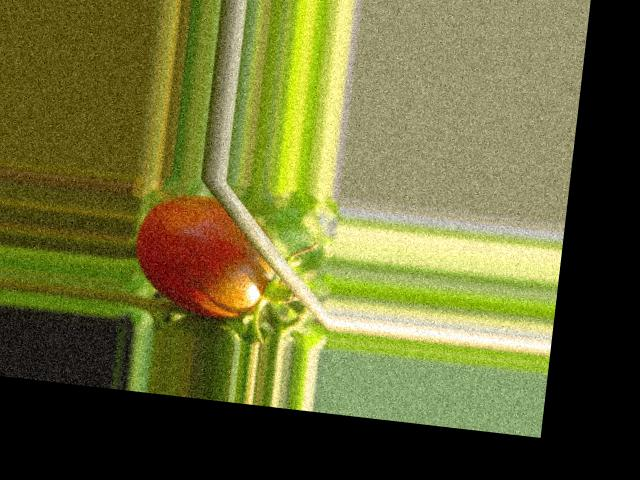tomato: (130, 191, 281, 321)
